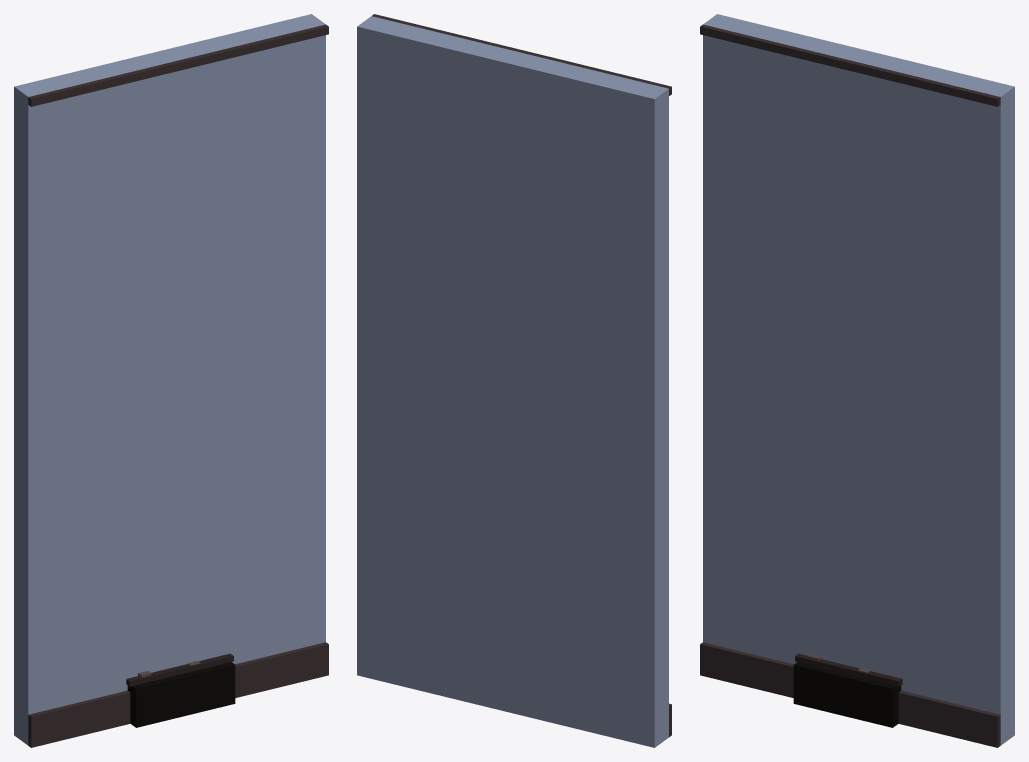
Rendered from wall_crack.fbx.
3 renders of one model, left to right at view 1: azimuth 30°, elevation 25°; view 2: azimuth 150°, elevation 25°; view 3: azimuth 330°, elevation 25°, orthographic.
Visible parts, largest first — view 1: wall_crack; view 2: wall_crack; view 3: wall_crack.
Part boxes in pixels (left/top/right/bottom): wall_crack: left=14, top=14, right=328, bottom=747; wall_crack: left=357, top=14, right=671, bottom=747; wall_crack: left=700, top=14, right=1014, bottom=747.
Size of the model in its own units: 1.2 by 2.5 by 0.16.
